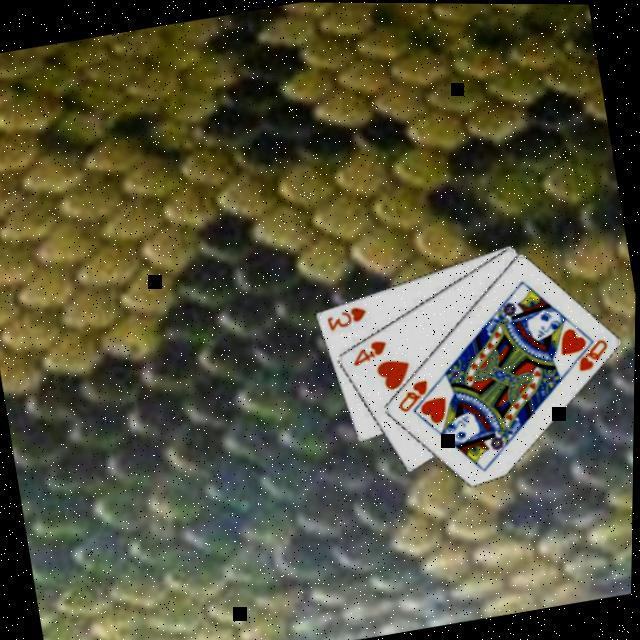3H: (321, 302, 370, 334)
4H: (344, 336, 390, 369)
QH: (559, 333, 613, 377), (390, 376, 432, 416)
